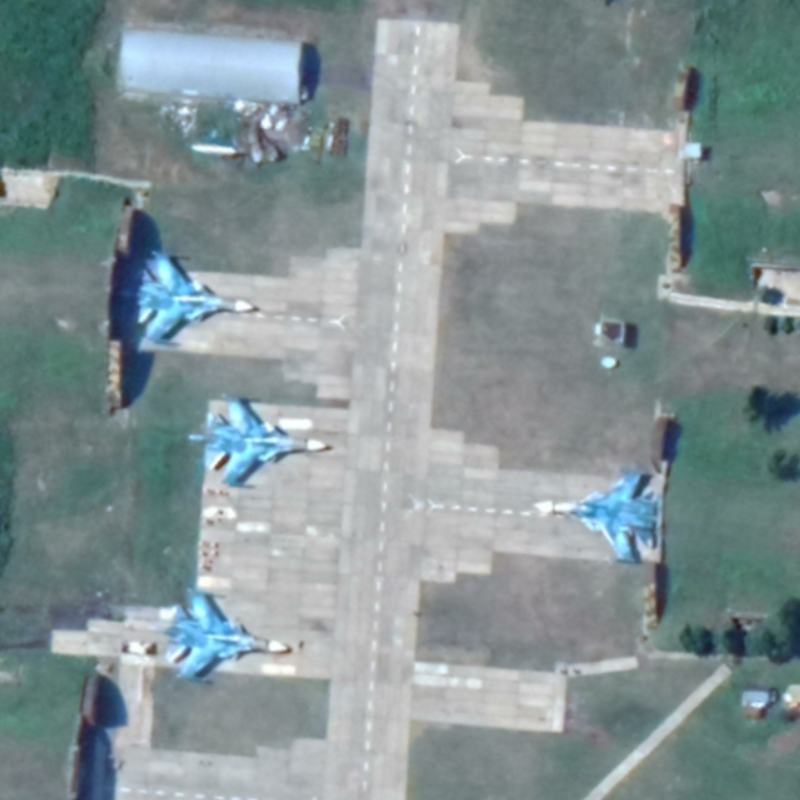A19: (118, 246, 257, 348), (185, 394, 329, 490), (159, 583, 290, 685), (532, 467, 662, 567)
